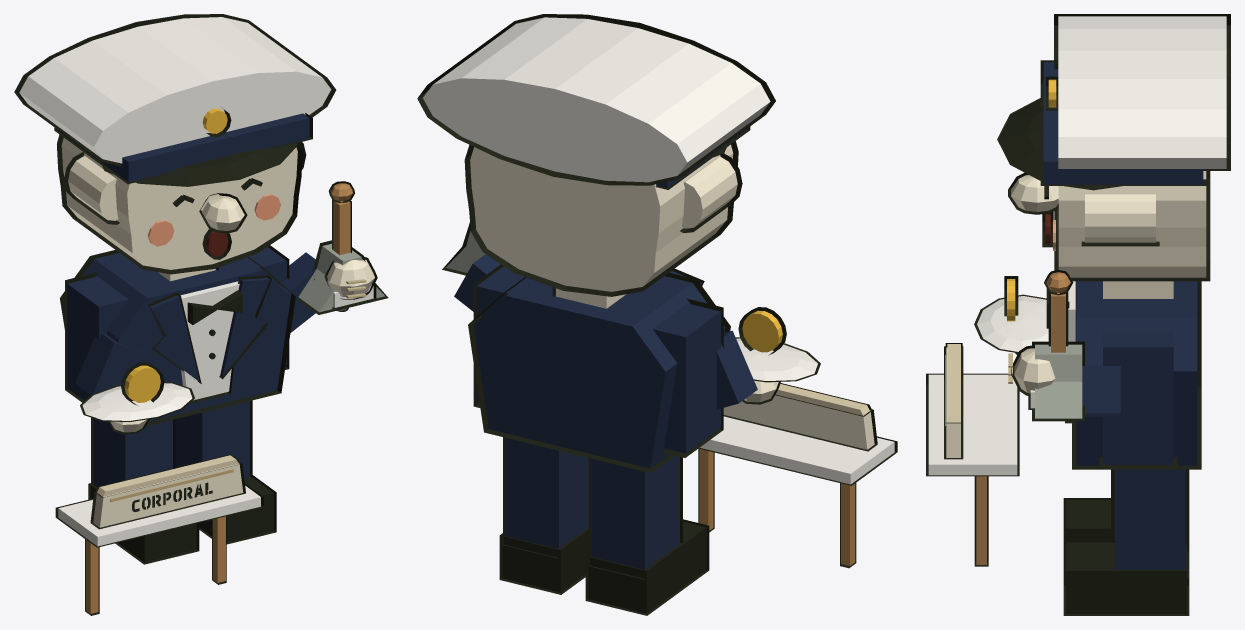
3 renders of one model, left to right at view 1: azimuth 30°, elevation 25°; view 2: azimuth 150°, elevation 25°; view 3: azimuth 270°, elevation 25°, orthographic. The views are drawn at different scales.
Visible parts, largest first — view 1: Link Marine; view 2: Link Marine; view 3: Link Marine.
Part boxes in pixels (box(x1,y1,x2,y2)): Link Marine: box(14, 14, 388, 615); Link Marine: box(417, 14, 897, 615); Link Marine: box(926, 14, 1230, 615).
Bounding box in the file's own units: 0.7462 × 0.9942 × 0.5155.
